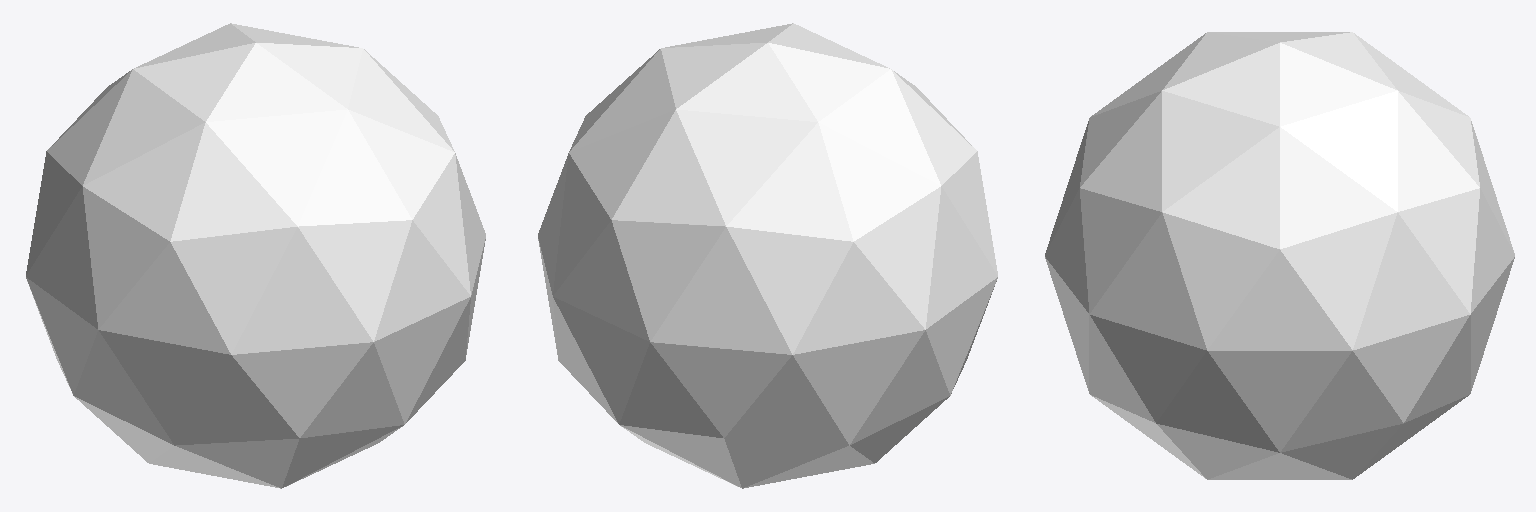
Rendered from bullet.obj.
The picture shows the model from 3 angles: view 1: azimuth 30°, elevation 25°; view 2: azimuth 150°, elevation 25°; view 3: azimuth 270°, elevation 25°; orthographic projection.
Parts seen in each view (by area): view 1: Icosphere; view 2: Icosphere; view 3: Icosphere.
Boxes of the visible parts, x1,y1,x2,y2 form: Icosphere: [26, 23, 485, 488]; Icosphere: [538, 23, 997, 488]; Icosphere: [1045, 32, 1514, 479].
Bounding box in the file's own units: 0.3499 × 0.3679 × 0.3679.